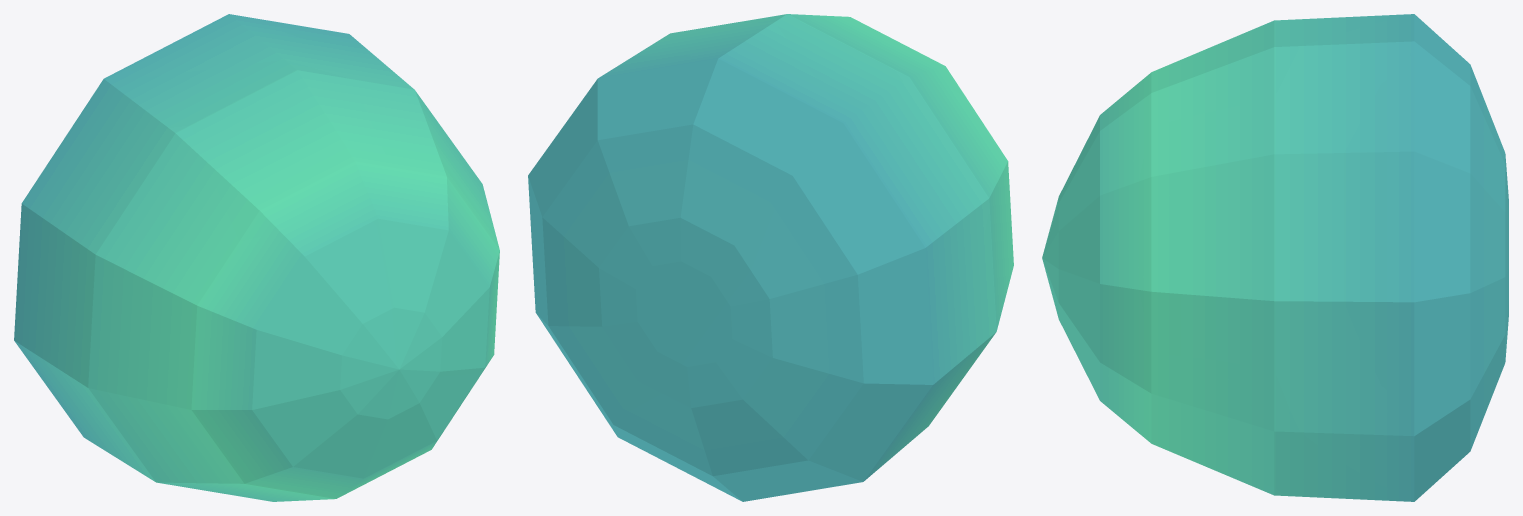
The model's file is bush1.glb.
3 renders of one model, left to right at view 1: azimuth 30°, elevation 25°; view 2: azimuth 150°, elevation 25°; view 3: azimuth 270°, elevation 25°, orthographic.
Visible parts, largest first — view 1: Object_32; view 2: Object_32; view 3: Object_32.
Part boxes in pixels (bbox=[...]): Object_32: bbox=[14, 14, 499, 501]; Object_32: bbox=[528, 14, 1013, 501]; Object_32: bbox=[1042, 14, 1508, 501].
Bounding box in the file's own units: 6.88 × 7.1 × 6.74.
1 material, 1 textured.
